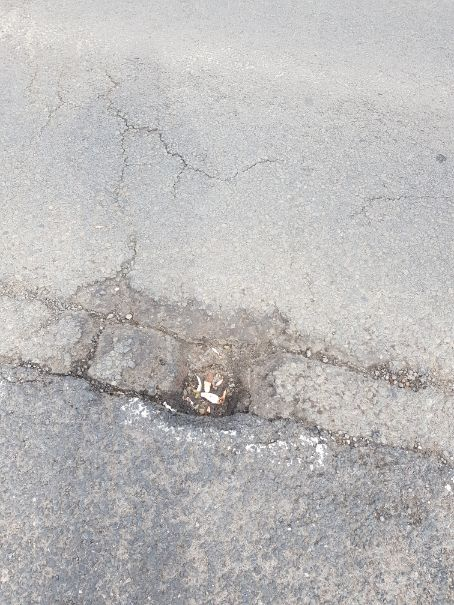pothole: (55, 284, 299, 433)
